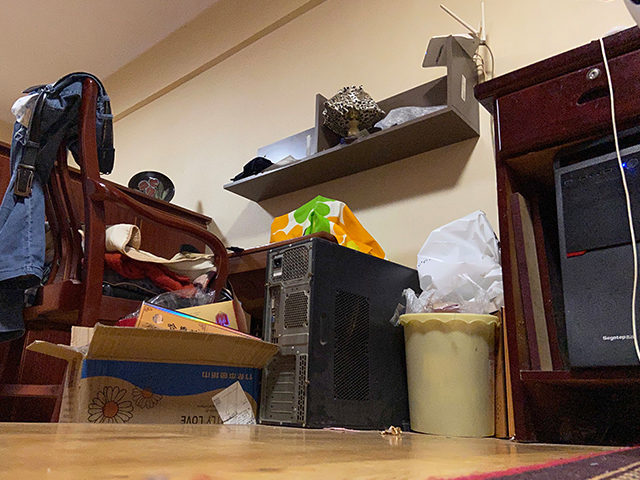carpet: (442, 448, 640, 480)
stool: (1, 79, 227, 424)
table: (472, 23, 640, 449)
trashcan: (399, 312, 501, 438)
